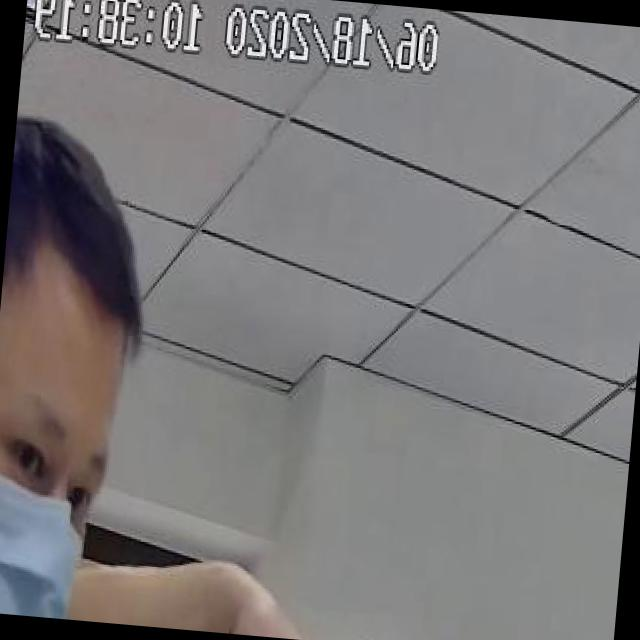Guns: (202, 583, 423, 640)
